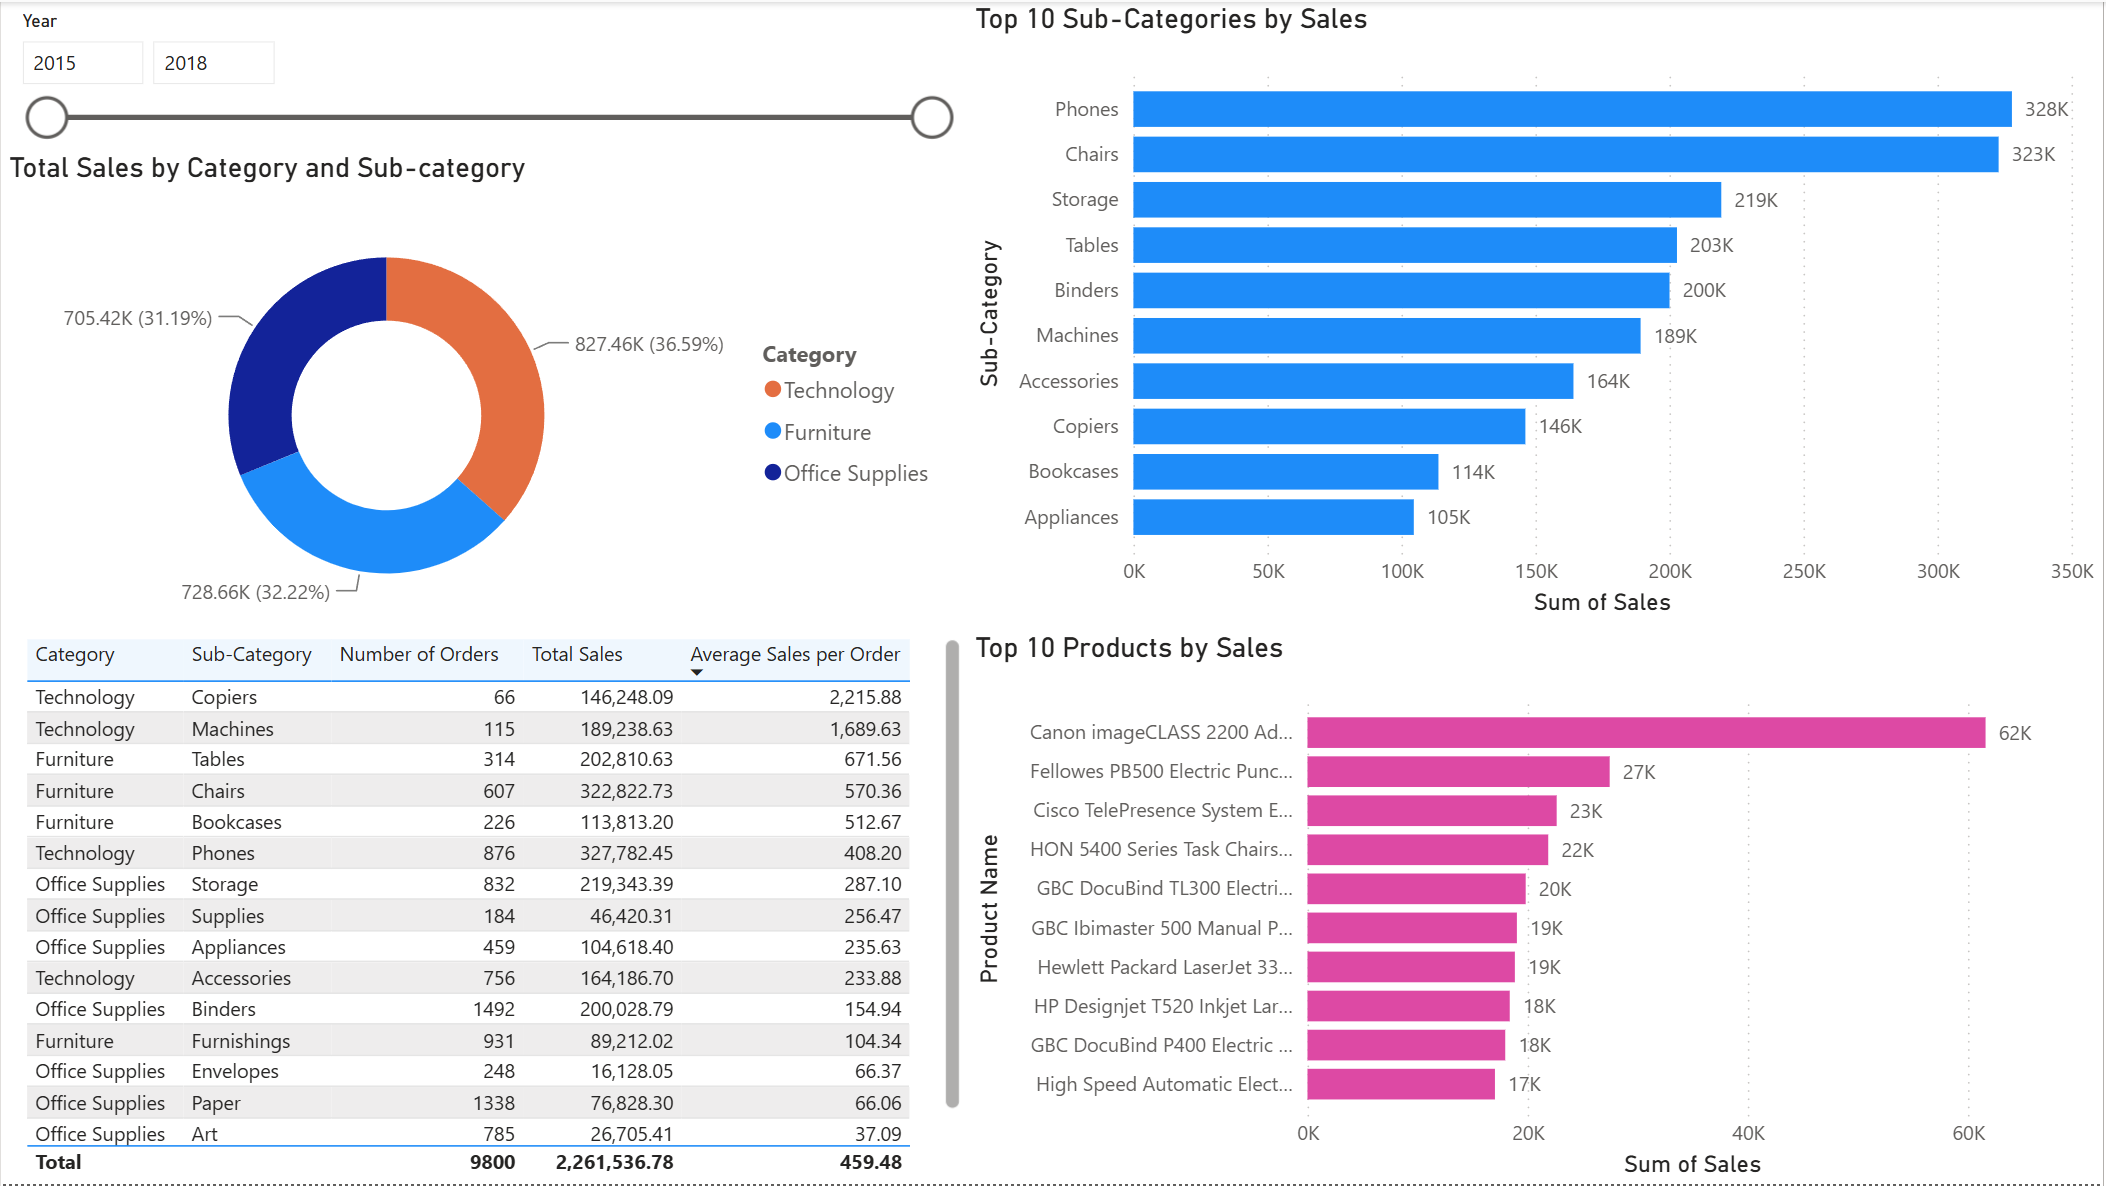

The dashboard page shown, as its layout file describes it:
{"tool":"powerbi","page":{"name":"Product Performance","canvas":[1280,720],"ordinal":1},"visuals":[{"type":"donutChart","title":"Total Sales by Category and Sub-category","fields":{"Category":["superstore_sales_dataset.Category Hierarchy.Category","superstore_sales_dataset.Category Hierarchy.Sub-Category","superstore_sales_dataset.Category Hierarchy.Product Name"],"Y":["Sum(superstore_sales_dataset.Sales)"]},"box":[0,90.2,578.7,292.3],"z":0},{"type":"clusteredBarChart","title":"Top 10 Sub-Categories by Sales","fields":{"Y":["Sum(superstore_sales_dataset.Sales)"],"Category":["superstore_sales_dataset.Category Hierarchy.Sub-Category"]},"box":[588.6,0,691.2,378],"z":1000},{"type":"clusteredBarChart","title":"Top 10 Products by Sales","fields":{"Y":["Sum(superstore_sales_dataset.Sales)"],"Category":["superstore_sales_dataset.Product Name"]},"box":[588.6,382.6,691.2,337.4],"z":2000},{"type":"tableEx","fields":{"Values":["superstore_sales_dataset.Category Hierarchy.Category","superstore_sales_dataset.Category Hierarchy.Sub-Category","superstore_sales_dataset.Order ID","Sum(superstore_sales_dataset.Sales)","superstore_sales_dataset.Average Sales per Order"]},"box":[9.8,382.6,578.7,337.4],"z":3000},{"type":"slicer","fields":{"Values":["superstore_sales_dataset.Order Date.Variation.Date Hierarchy.Year"]},"box":[0,0,588.6,90.2],"z":4000}]}

Visuals, with their boxes in screenshot pixels (x1, y1, x2, y2), scaled from the page's 1280x720 canvas onto the 2106x1186 screenshot:
"Total Sales by Category and Sub-category" donutChart: Rect(0, 149, 952, 630)
"Top 10 Sub-Categories by Sales" clusteredBarChart: Rect(968, 0, 2105, 623)
"Top 10 Products by Sales" clusteredBarChart: Rect(968, 630, 2105, 1185)
tableEx - superstore_sales_dataset.Category Hierarchy.Category x superstore_sales_dataset.Category Hierarchy.Sub-Category: Rect(16, 630, 968, 1185)
slicer - superstore_sales_dataset.Order Date.Variation.Date Hierarchy.Year: Rect(0, 0, 968, 149)
